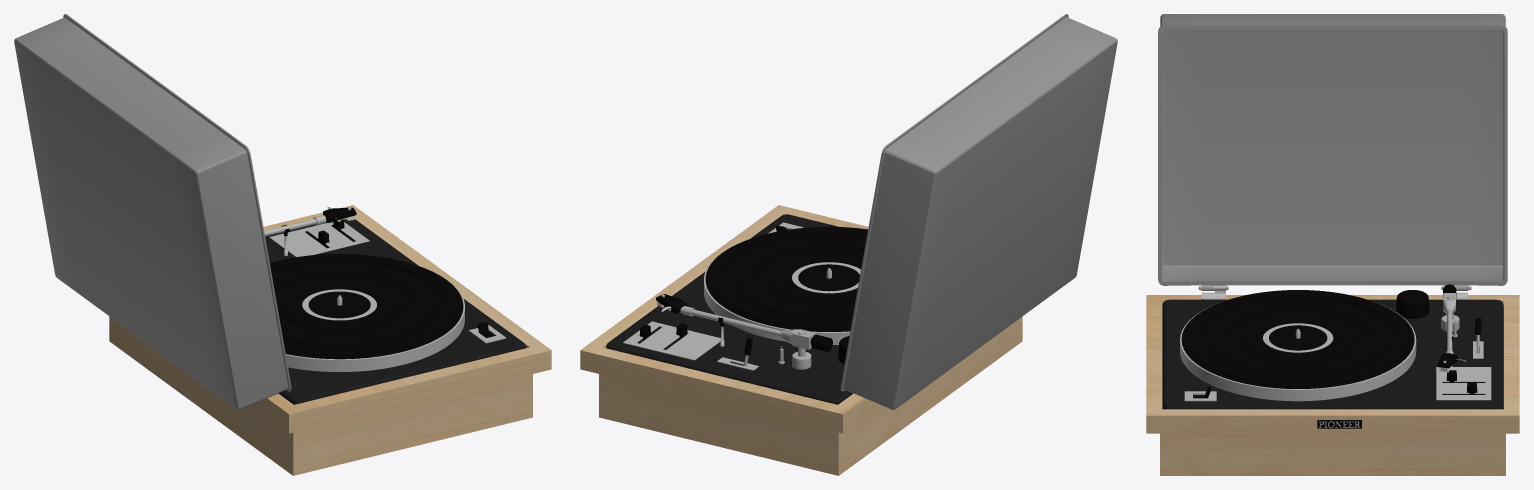
Rendered from lpPlayer-transformed.glb.
3 renders of one model, left to right at view 1: azimuth 30°, elevation 25°; view 2: azimuth 150°, elevation 25°; view 3: azimuth 270°, elevation 25°, orthographic. The views are drawn at different scales.
Parts seen in each view (by area): view 1: Box001, Object001; view 2: Box001, Object001; view 3: Box001, Object001.
Part boxes in pixels (x1,y1,x2,y2): Box001: (14, 14, 525, 409); Object001: (109, 205, 551, 475); Box001: (606, 14, 1117, 410); Object001: (580, 205, 1022, 475); Box001: (1158, 14, 1507, 428); Object001: (1146, 295, 1519, 475).
Size of the model in its own units: 4.85 by 4.5 by 4.76.
Materials: 4 (4 with a texture image).
